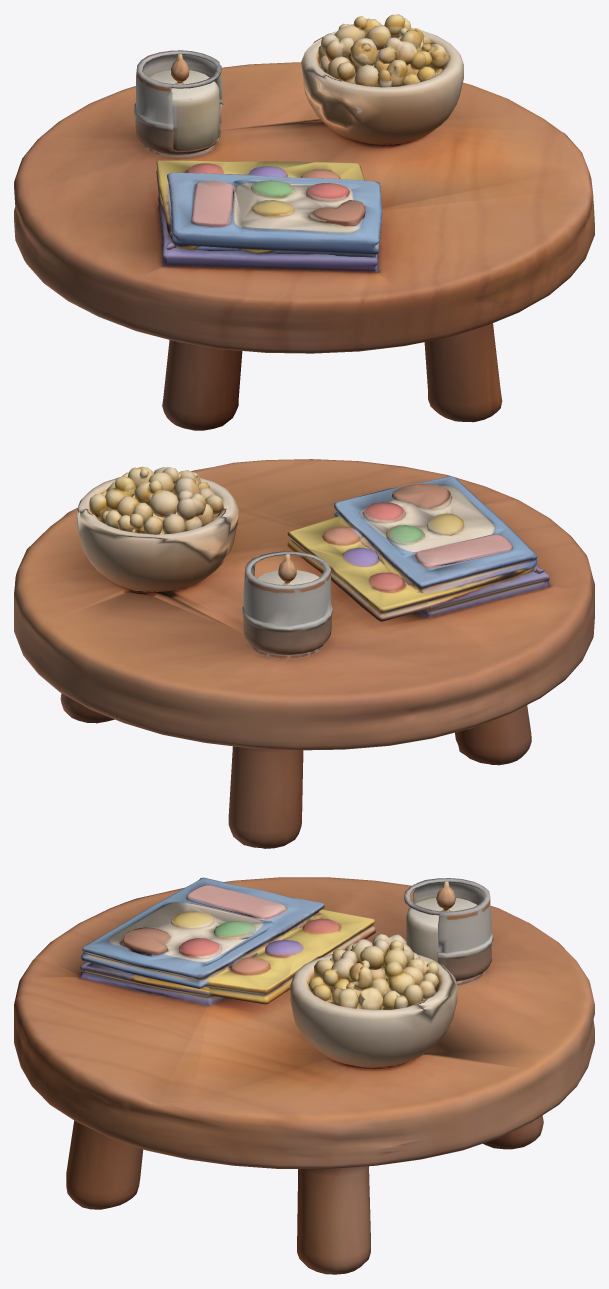
Rendered from sehpa.glb.
The picture shows the model from 3 angles, top to bottom: view 1: azimuth 30°, elevation 25°; view 2: azimuth 150°, elevation 25°; view 3: azimuth 270°, elevation 25°; orthographic projection.
Visible parts, largest first — view 1: tripo_node_750acdfd-1455-4f86-9b39-019cfe965917; view 2: tripo_node_750acdfd-1455-4f86-9b39-019cfe965917; view 3: tripo_node_750acdfd-1455-4f86-9b39-019cfe965917.
Boxes of the visible parts, left/top/right/bottom form: tripo_node_750acdfd-1455-4f86-9b39-019cfe965917: left=14, top=14, right=594, bottom=430; tripo_node_750acdfd-1455-4f86-9b39-019cfe965917: left=14, top=459, right=594, bottom=848; tripo_node_750acdfd-1455-4f86-9b39-019cfe965917: left=14, top=877, right=594, bottom=1274.
Bounding box in the file's own units: 0.9782 × 0.5226 × 0.9782.
1 material, 1 textured.
